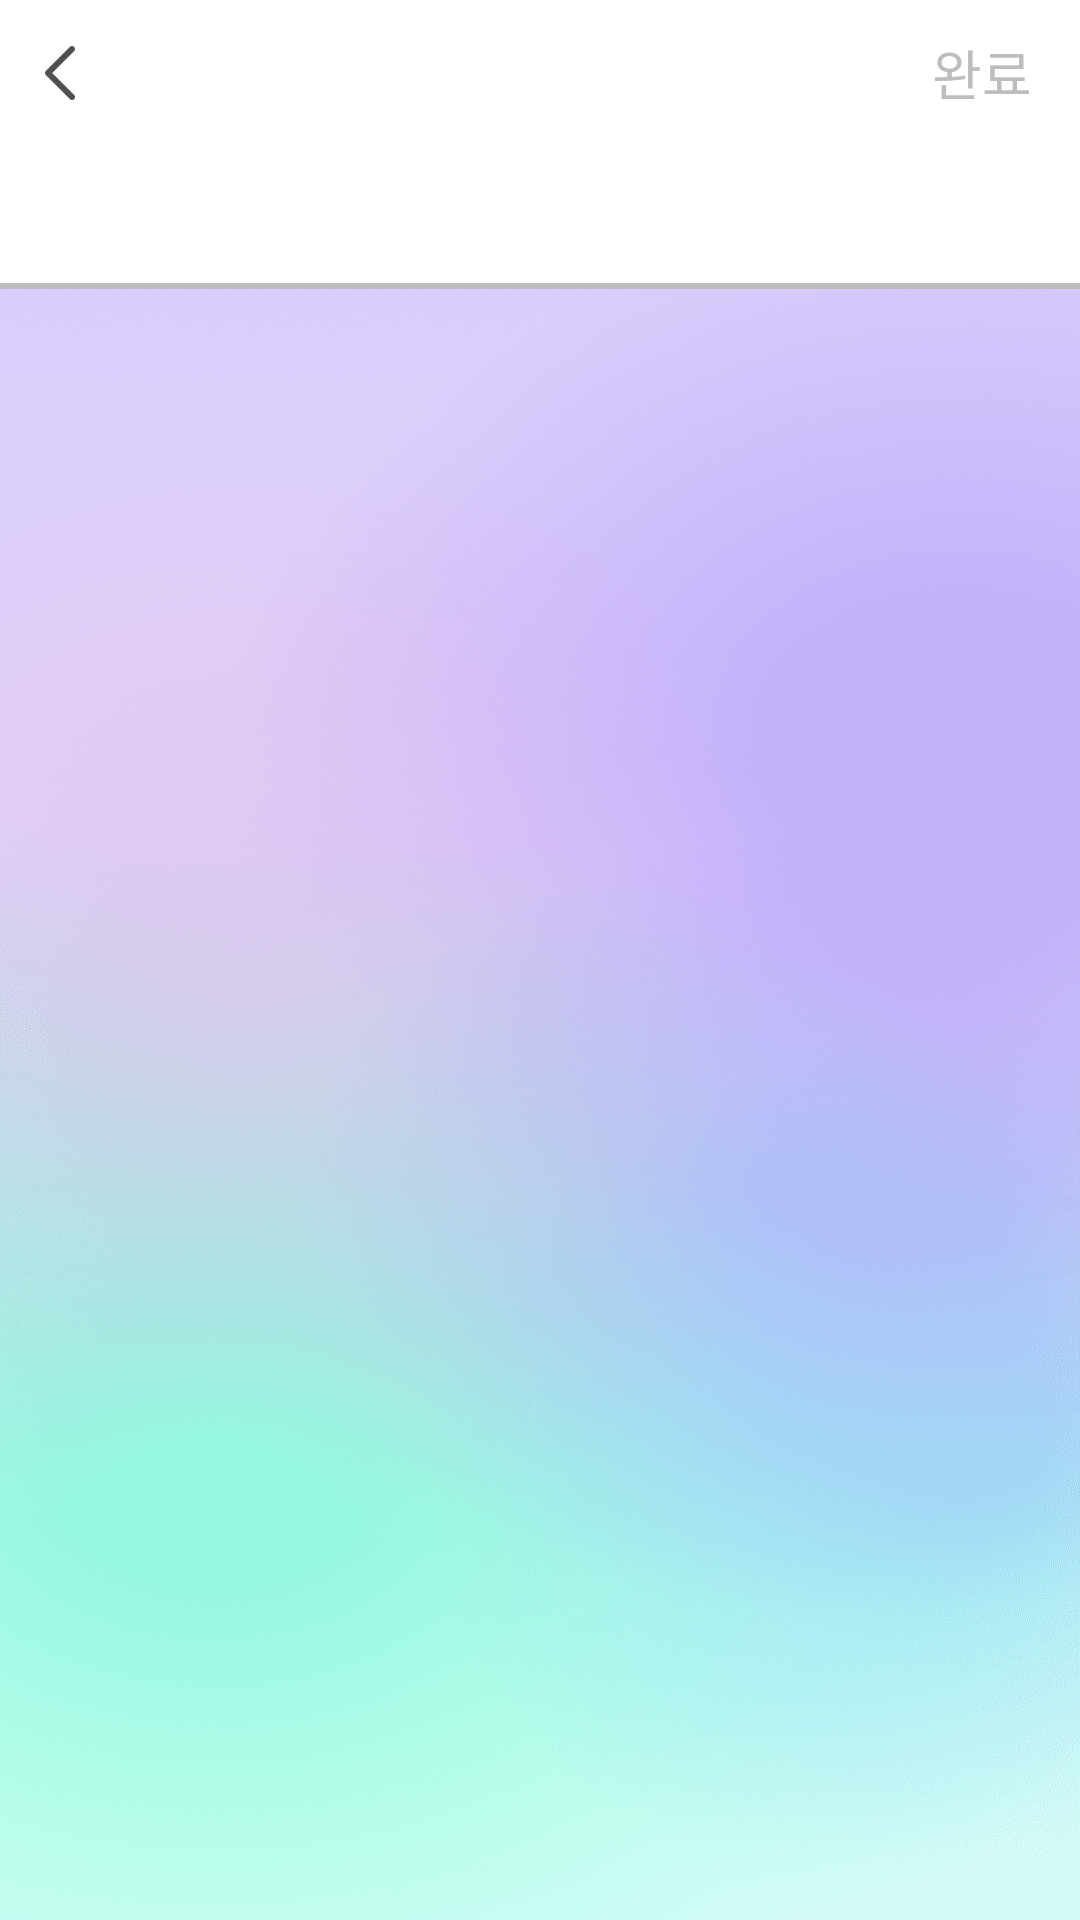

Icons on this 1080px×1920px Android screen, each with the point to tap as point (x, y):
back: point (60, 73)
